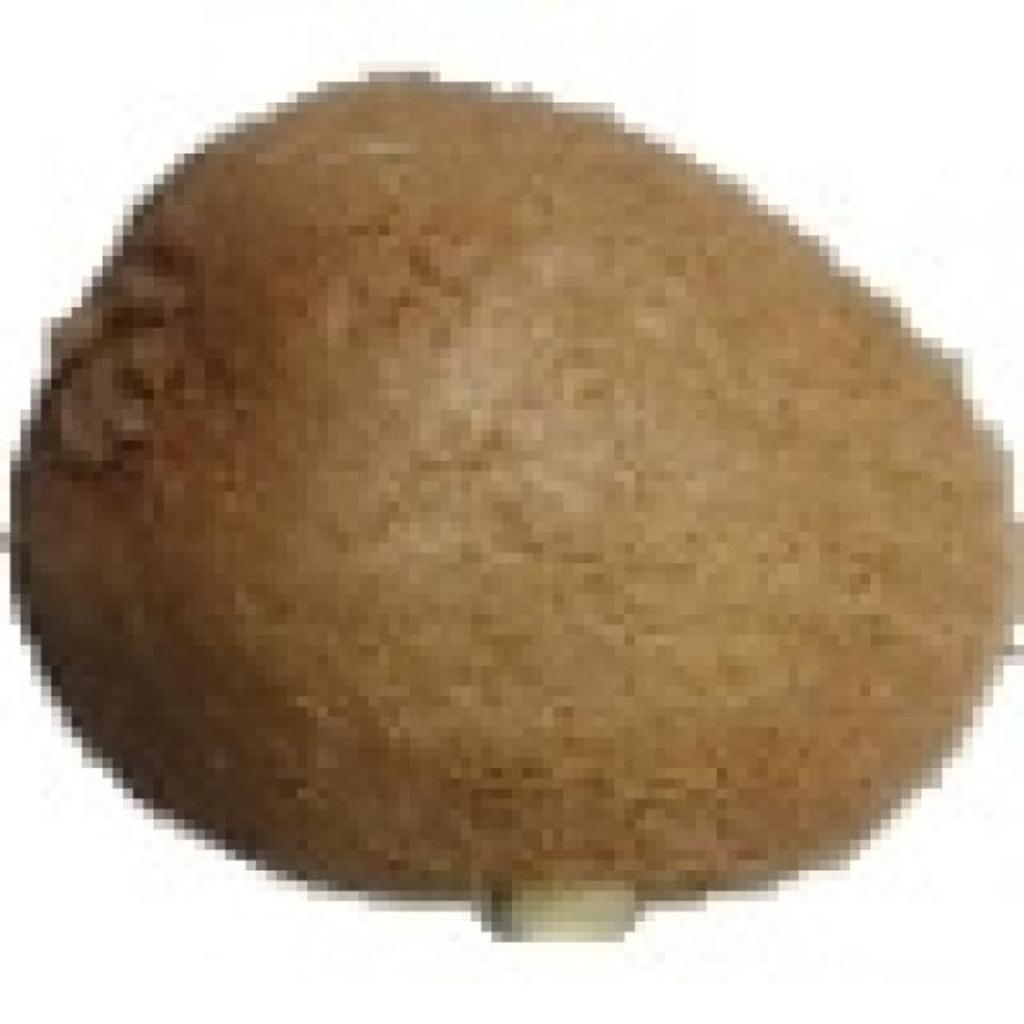kiwi: (31, 61, 1014, 911)
